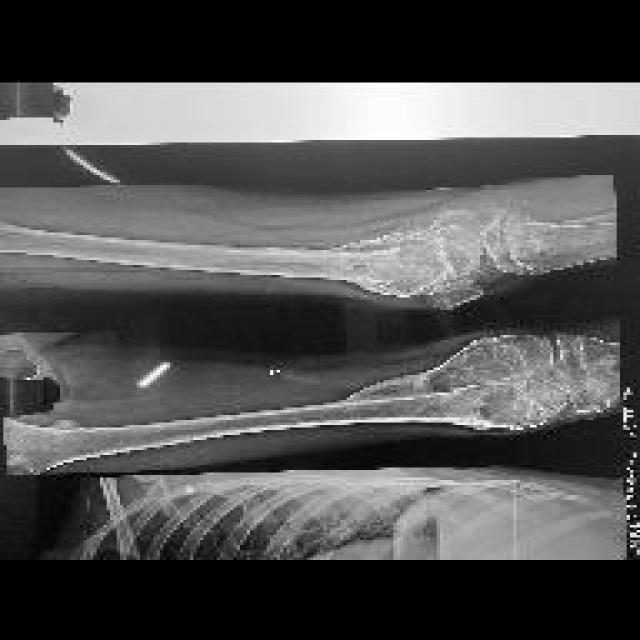bone-cancer: (376, 340, 567, 427), (342, 228, 467, 300)
